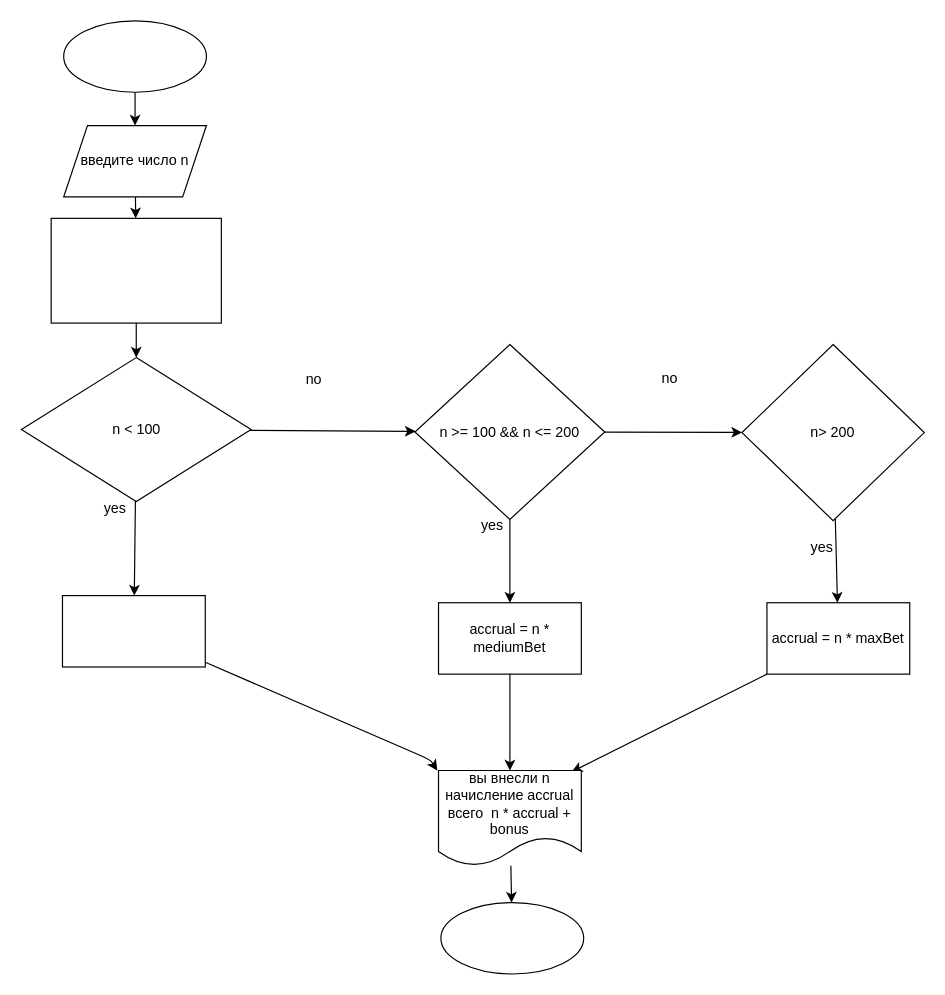
Image size: 945x995. Some labels were removed from this diagram. Here are the shapes that lost their labels. From the top down, the centre of each, then its label:
(134,56): start
(135,270): minBet = 0,05 mediumBet = 0,07 maxBet = 0,1 accrual = 0 bonus = 15
(133,630): accrual = n * minBet
(512,937): end
